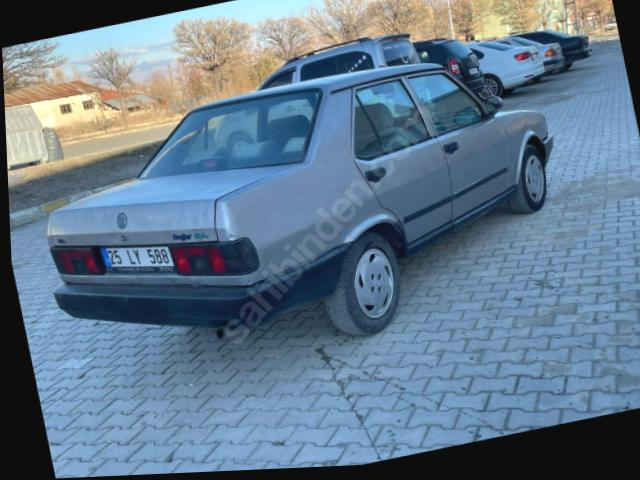plaka: (101, 246, 173, 271)
